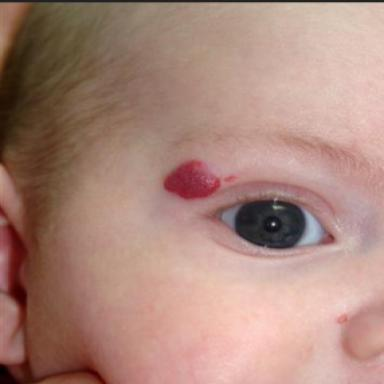Hemangiome: (164, 160, 220, 199)
